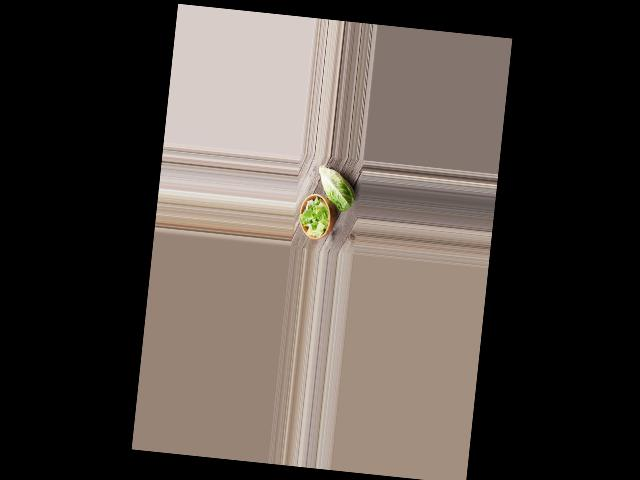lettuce: (314, 166, 358, 212)
